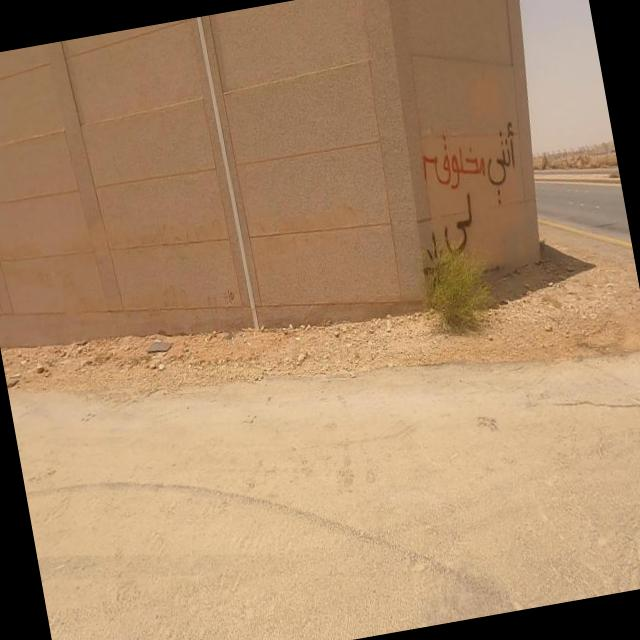debris: (310, 1, 634, 404)
